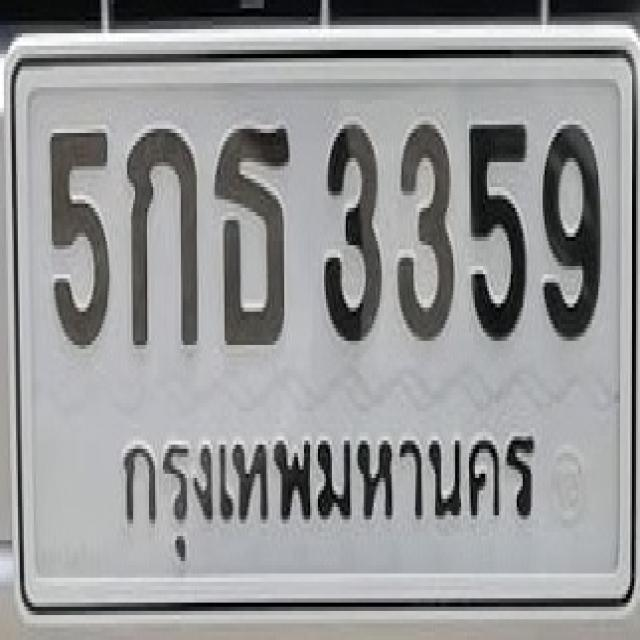license_plate: (7, 32, 640, 613)
